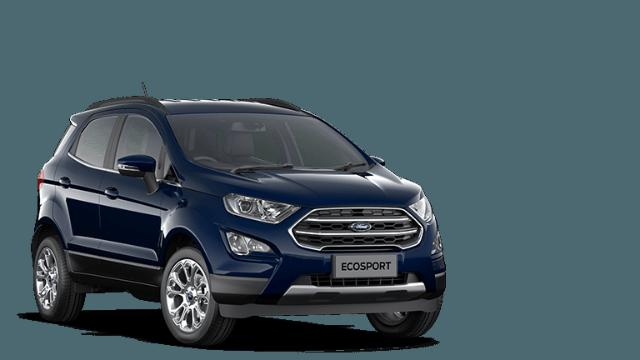ford: (31, 82, 446, 346)
